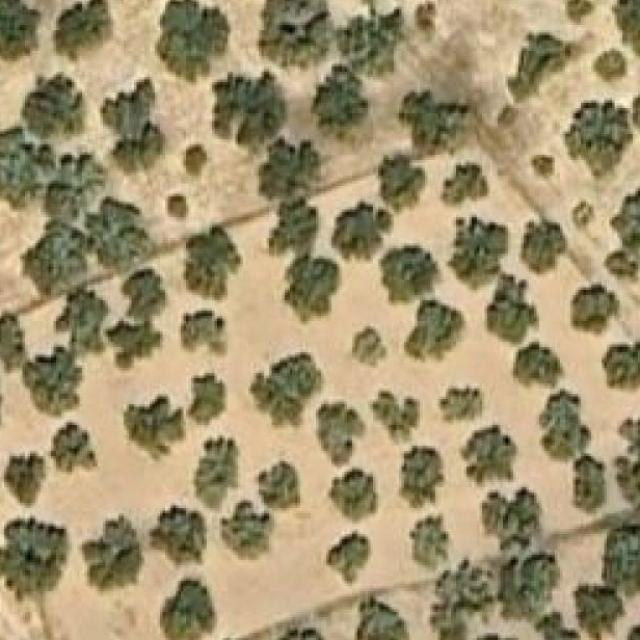Tree: (562, 96, 640, 182), (102, 77, 167, 173), (105, 269, 167, 368), (157, 0, 229, 85), (248, 352, 326, 428), (210, 66, 287, 142), (0, 518, 69, 602), (429, 555, 495, 640), (79, 514, 146, 594), (536, 583, 625, 640), (508, 33, 581, 101), (36, 144, 100, 220), (399, 90, 470, 156), (26, 222, 92, 292), (264, 0, 332, 66), (280, 256, 345, 323), (185, 226, 240, 304), (342, 9, 404, 77), (447, 217, 508, 286), (22, 344, 82, 414), (404, 300, 467, 366), (124, 394, 186, 461), (498, 555, 560, 622), (22, 72, 84, 139), (88, 196, 150, 263), (458, 425, 521, 487), (480, 277, 536, 346), (258, 134, 318, 198), (0, 127, 46, 210), (160, 575, 217, 640), (482, 484, 542, 545), (542, 389, 592, 461), (380, 245, 438, 306), (53, 0, 110, 62), (316, 402, 368, 468), (316, 70, 368, 135), (220, 501, 274, 563), (193, 435, 238, 508), (155, 506, 207, 568), (66, 287, 110, 357), (263, 202, 318, 258), (607, 186, 640, 279), (334, 204, 388, 260), (328, 466, 378, 524), (602, 523, 640, 599), (570, 282, 620, 338), (401, 446, 446, 508), (520, 220, 568, 278), (370, 392, 420, 446), (378, 155, 425, 212), (326, 532, 373, 587), (1, 451, 43, 508), (409, 514, 451, 570), (354, 596, 406, 640), (188, 373, 228, 430), (53, 422, 98, 472), (180, 311, 230, 355), (256, 461, 300, 511), (614, 418, 640, 500), (0, 0, 36, 57), (570, 453, 604, 513), (440, 165, 488, 207), (440, 383, 488, 425), (515, 342, 563, 383), (0, 309, 30, 372), (602, 341, 640, 388), (591, 46, 628, 90), (352, 326, 389, 368), (614, 0, 640, 56), (607, 614, 640, 640), (183, 142, 207, 177), (282, 624, 328, 640), (562, 0, 593, 23), (529, 155, 555, 181), (448, 632, 519, 640), (167, 194, 188, 220)
